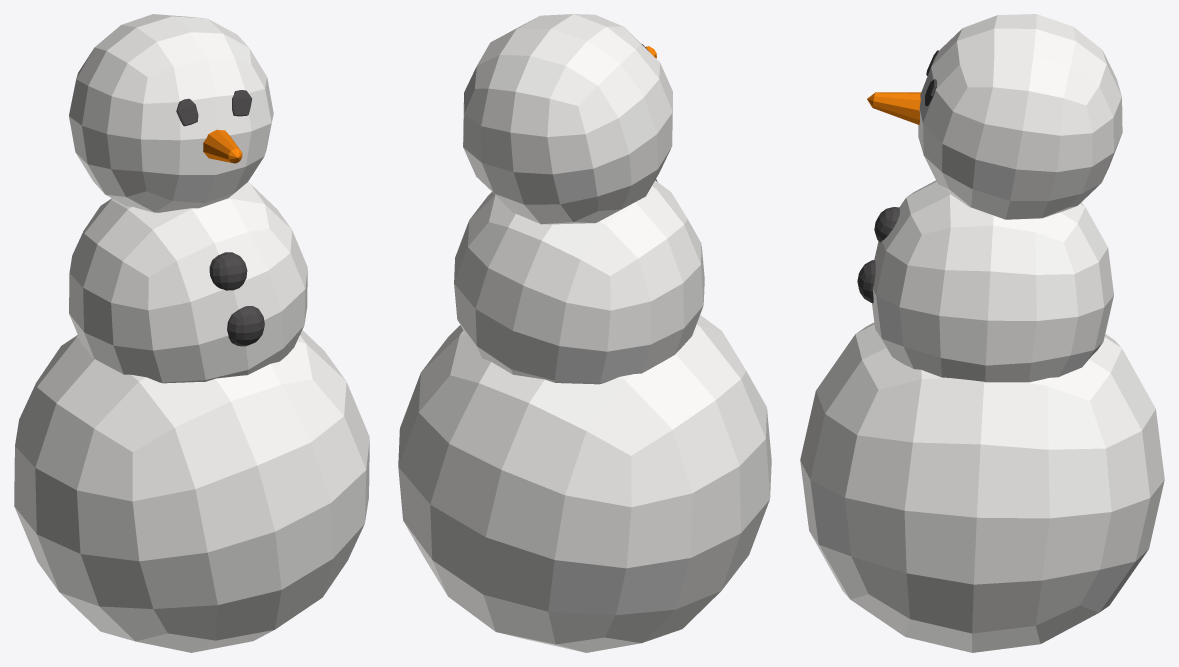
File: Isl_16_Snowman_2.fbx
The picture shows the model from 3 angles, left to right: view 1: azimuth 30°, elevation 25°; view 2: azimuth 150°, elevation 25°; view 3: azimuth 270°, elevation 25°; orthographic projection. The views are drawn at different scales.
Visible parts, largest first — view 1: Isl_16_Snowman_2; view 2: Isl_16_Snowman_2; view 3: Isl_16_Snowman_2.
Part boxes in pixels (x1,y1,x2,y2): Isl_16_Snowman_2: (14,14,369,652); Isl_16_Snowman_2: (398,14,771,652); Isl_16_Snowman_2: (800,14,1164,652).
Bounding box in the file's own units: 146 × 148 × 272.
1 material, 1 textured.
